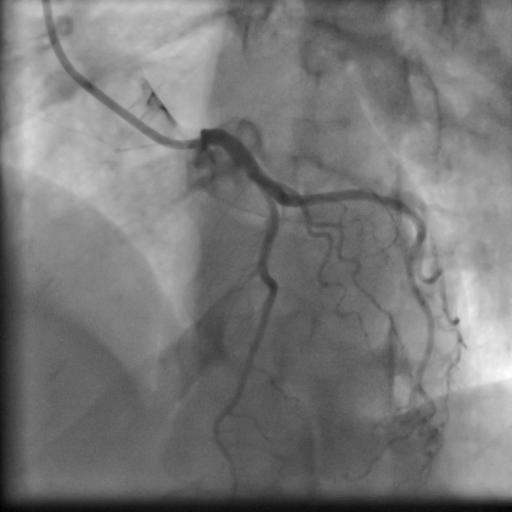Stenosis: (261, 187, 283, 220)
